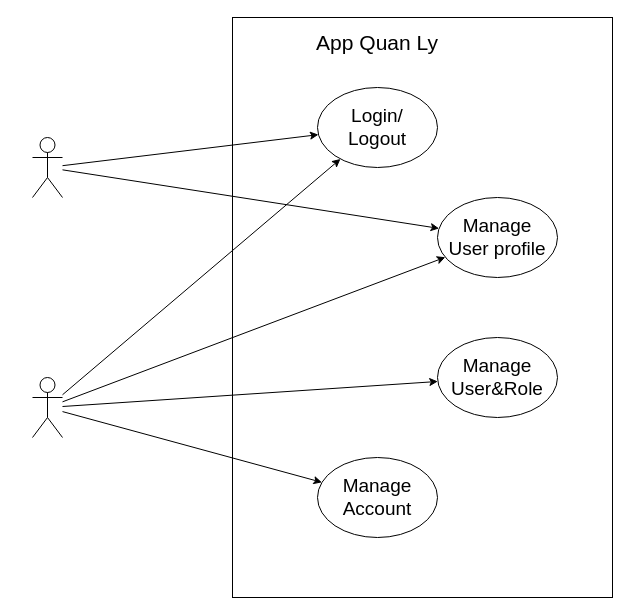
Image size: 630x615. Some labels were removed from this diagram. Here are the shapes that lost their labels. From the top down, the box of each, then its label:
(32, 136, 62, 198): User
(32, 376, 62, 438): Admin
